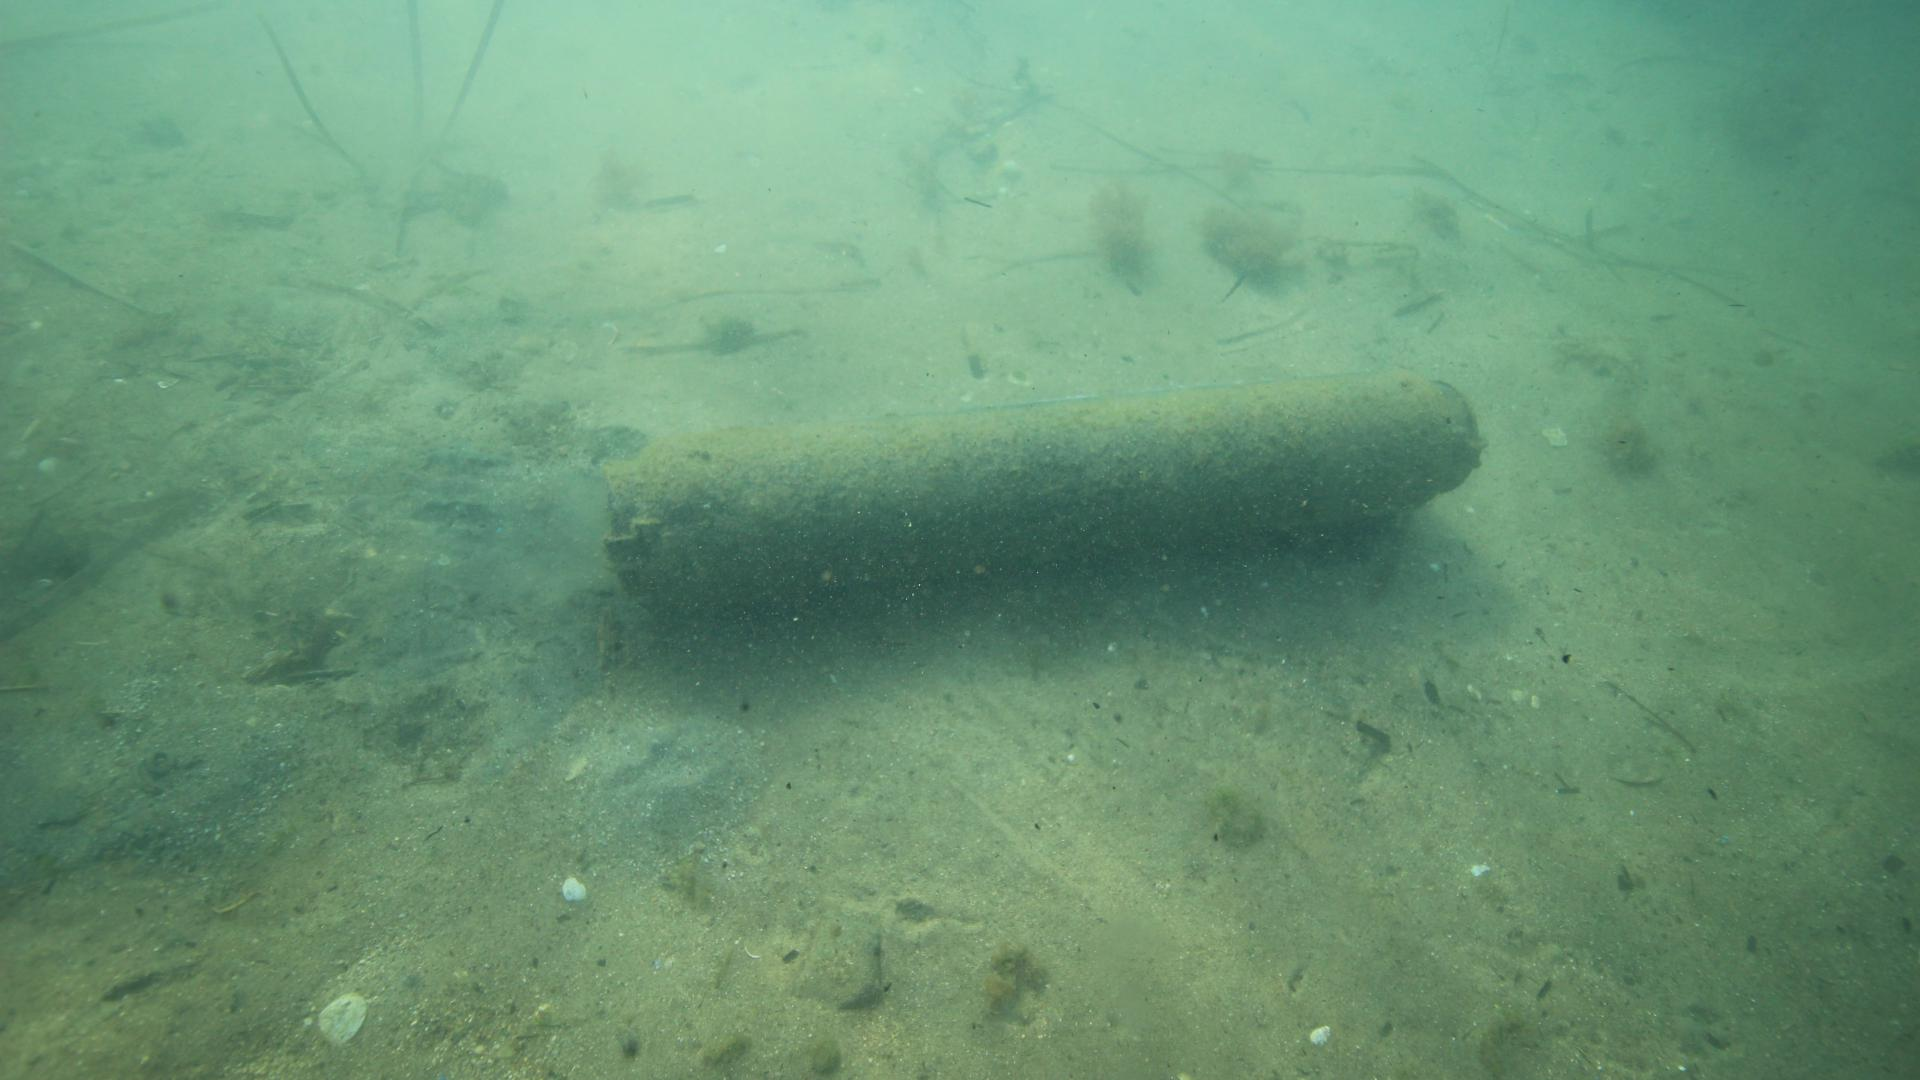eel fish trap: (601, 375, 1487, 618)
